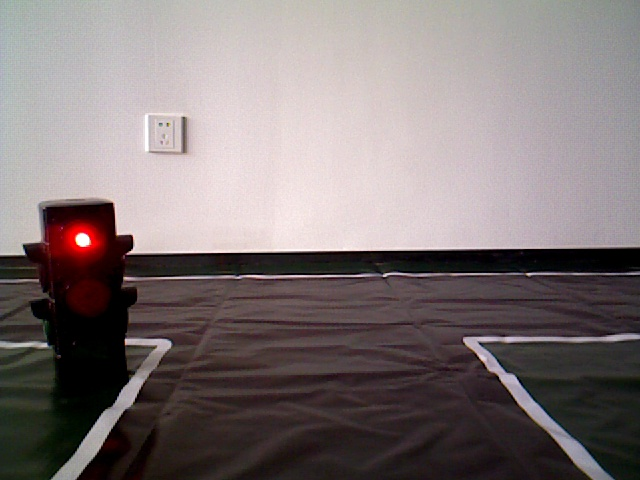red: (37, 206, 126, 379)
